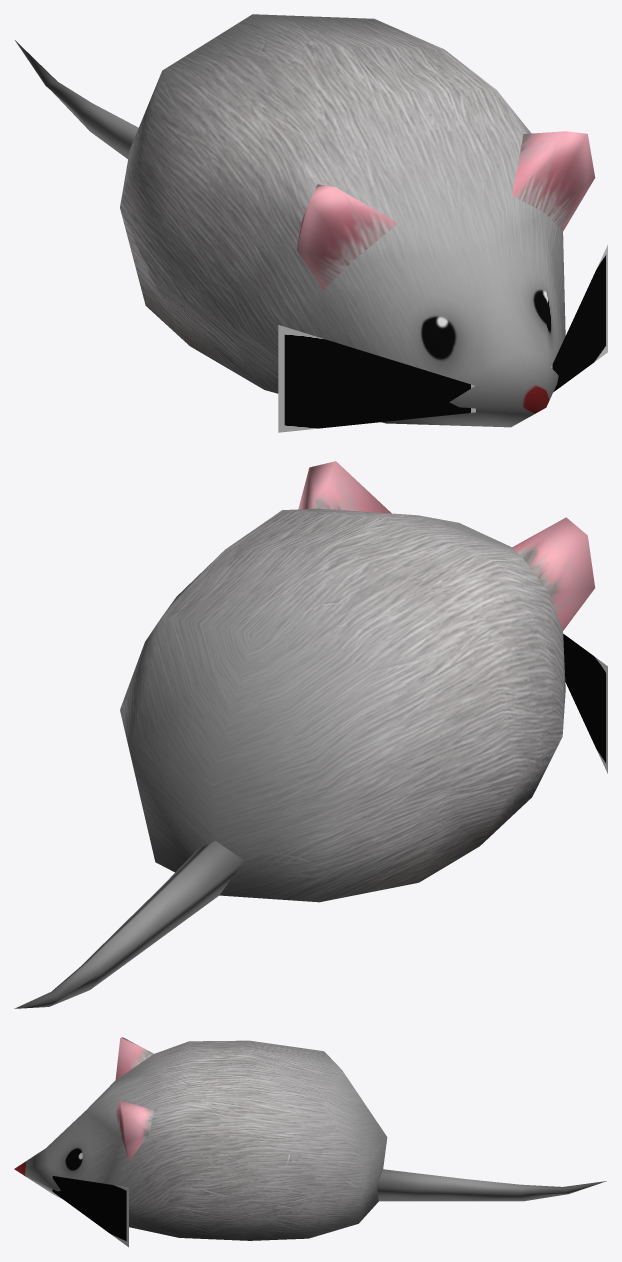
File: mouse.fbx
The picture shows the model from 3 angles, top to bottom: view 1: azimuth 30°, elevation 25°; view 2: azimuth 150°, elevation 25°; view 3: azimuth 270°, elevation 25°; orthographic projection. The views are drawn at different scales.
Parts seen in each view (by area): view 1: mausu_panpkin_03:polySurface4; view 2: mausu_panpkin_03:polySurface4; view 3: mausu_panpkin_03:polySurface4.
Boxes of the visible parts, left/top/right/bottom form: mausu_panpkin_03:polySurface4: left=15, top=14, right=607, bottom=432; mausu_panpkin_03:polySurface4: left=14, top=461, right=607, bottom=1008; mausu_panpkin_03:polySurface4: left=14, top=1037, right=606, bottom=1247.
Bounding box in the file's own units: 30.19 × 20.9 × 75.61.
